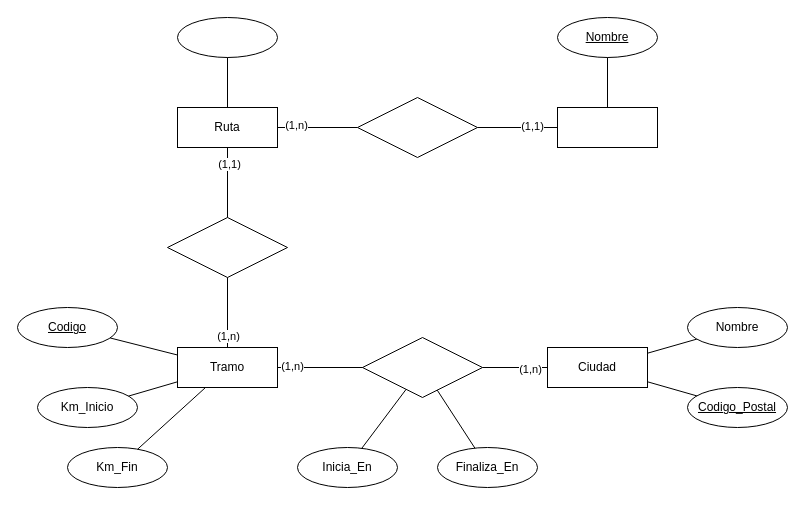
This 805x505 diagram has some shape labels left out. The shapes that lost their labels are listed below. From the top down, each one's centre as x and y in pixels, then its label:
At [227,37]: "Numero".
At [417,127]: "pertenece".
At [607,127]: "Categoria".
At [227,247]: "está compuesta".
At [422,367]: "pasa por".
